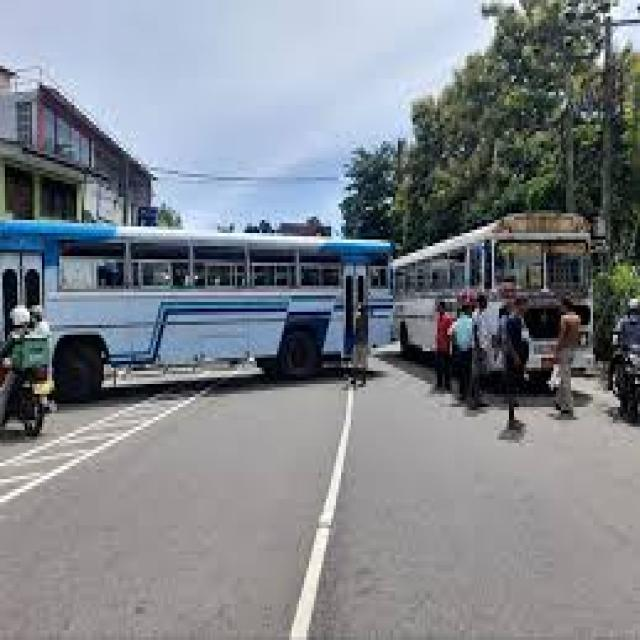bus: (0, 220, 390, 400), (393, 213, 591, 371)
person: (507, 305, 526, 430), (556, 312, 578, 417), (452, 305, 472, 400), (472, 299, 494, 384), (10, 305, 47, 350), (435, 302, 450, 391), (620, 318, 638, 351)
